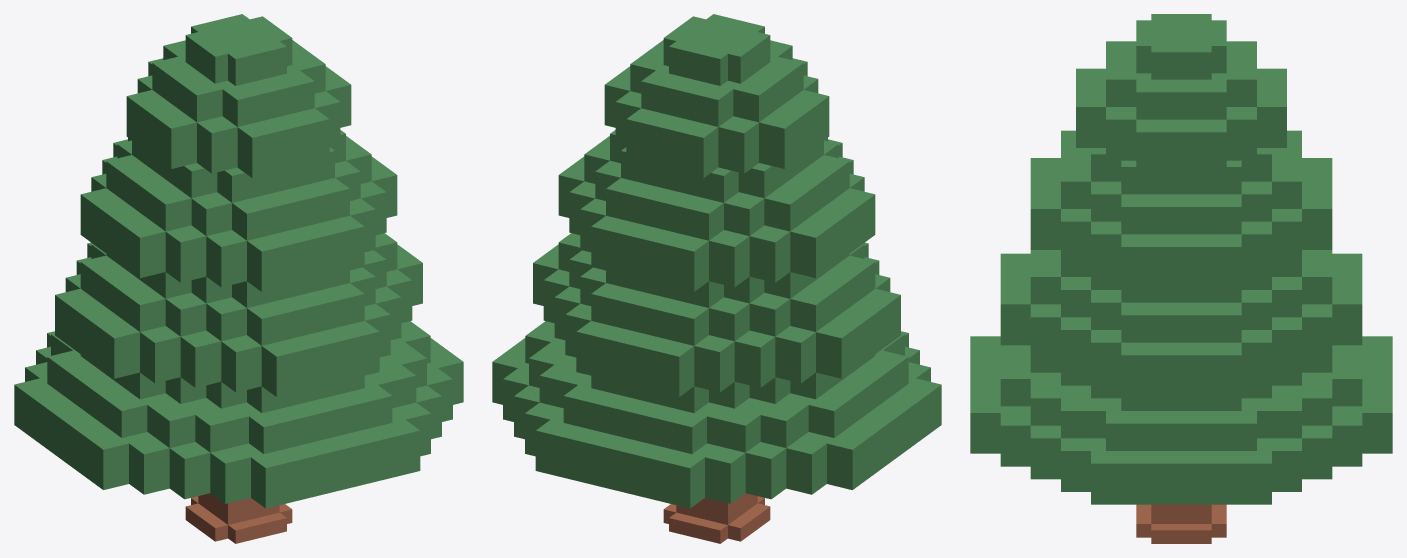
Rendered from tree_round_2.obj.
3 renders of one model, left to right at view 1: azimuth 30°, elevation 25°; view 2: azimuth 150°, elevation 25°; view 3: azimuth 270°, elevation 25°, orthographic.
Bounding box in the file's own units: 2.8 × 3.6 × 2.8.
1 material, 1 textured.
